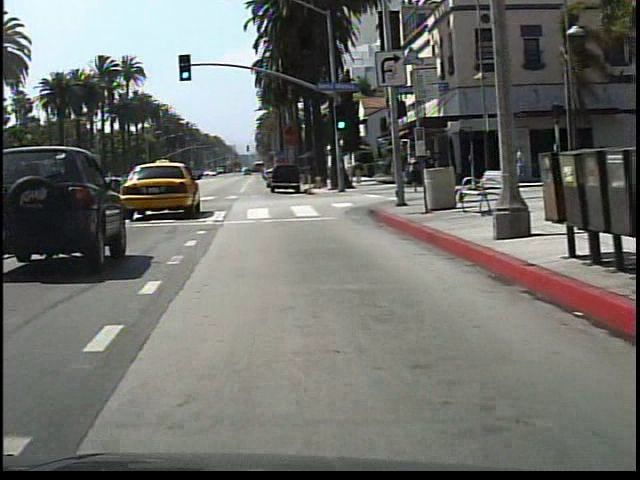person: (397, 148, 414, 196), (512, 142, 524, 182)
